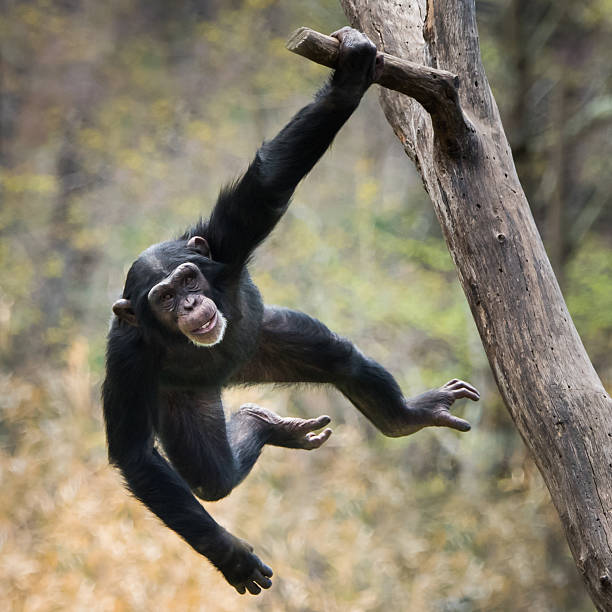chimpanzee: (90, 230, 242, 351)
